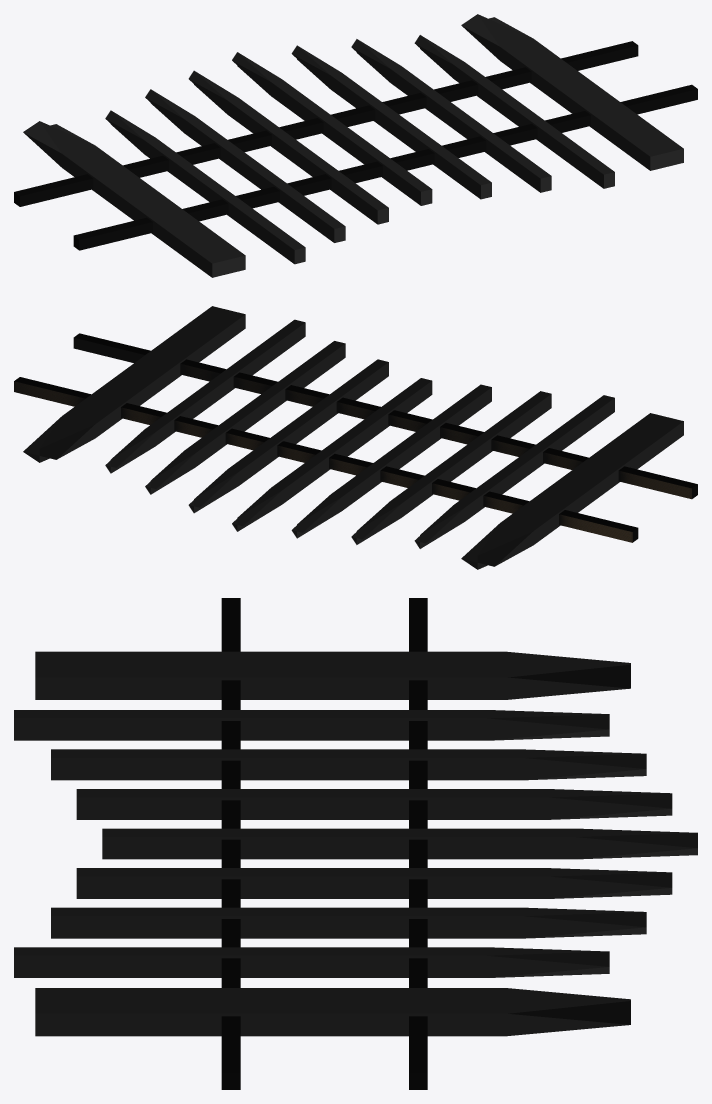
The model's file is ex_Door4.obj.
3 renders of one model, top to bottom at view 1: azimuth 30°, elevation 25°; view 2: azimuth 150°, elevation 25°; view 3: azimuth 270°, elevation 25°, orthographic. The views are drawn at different scales.
Visible parts, largest first — view 1: Cube.313_Cube.031, object 2; view 2: Cube.313_Cube.031, object 2; view 3: Cube.313_Cube.031, object 2.
Part boxes in pixels (x1,y1,x2,y2): Cube.313_Cube.031: (23,14,683,277); object 2: (14,41,697,250); Cube.313_Cube.031: (23,306,683,569); object 2: (14,333,697,542); Cube.313_Cube.031: (14,651,697,1036); object 2: (221,598,427,1089).
Size of the model in its own units: 256 by 5.63 by 156.
